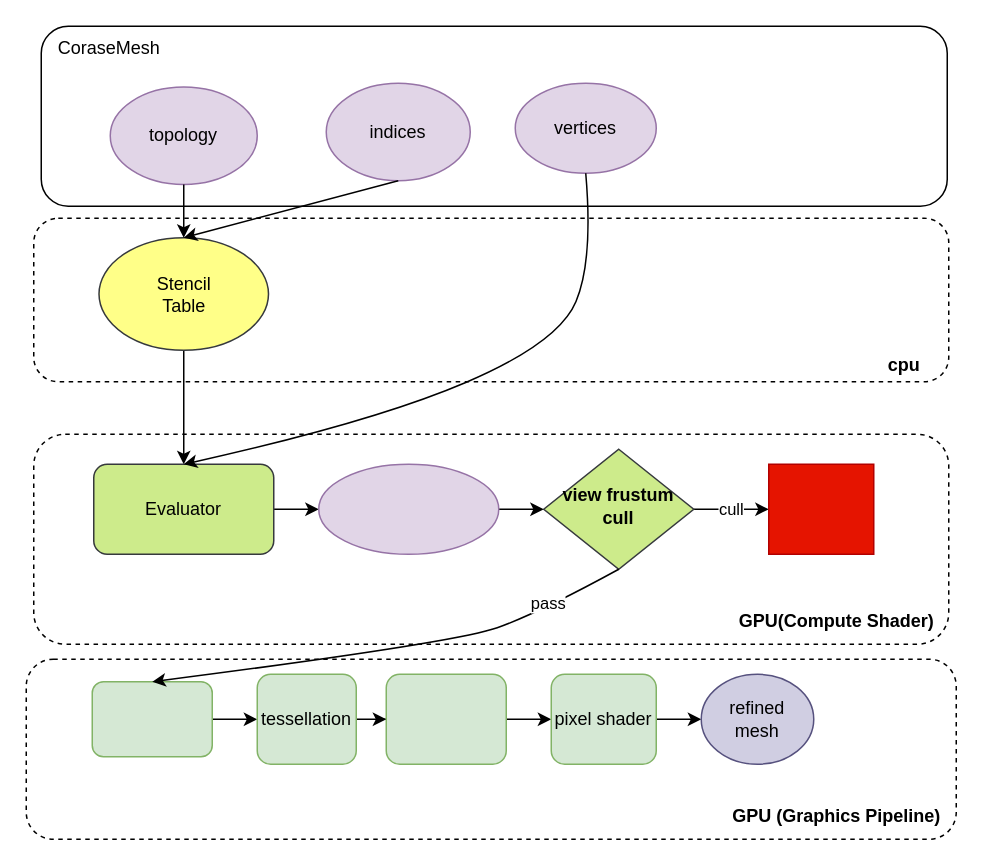
Some shapes in this 983 by 866 pixel diagram are drawn without their labels. Each missing label, with the centre of its shape:
discard: point (820, 508)
domain shader: point (445, 718)
hull shader: point (151, 718)
subdivison patches: point (408, 508)
